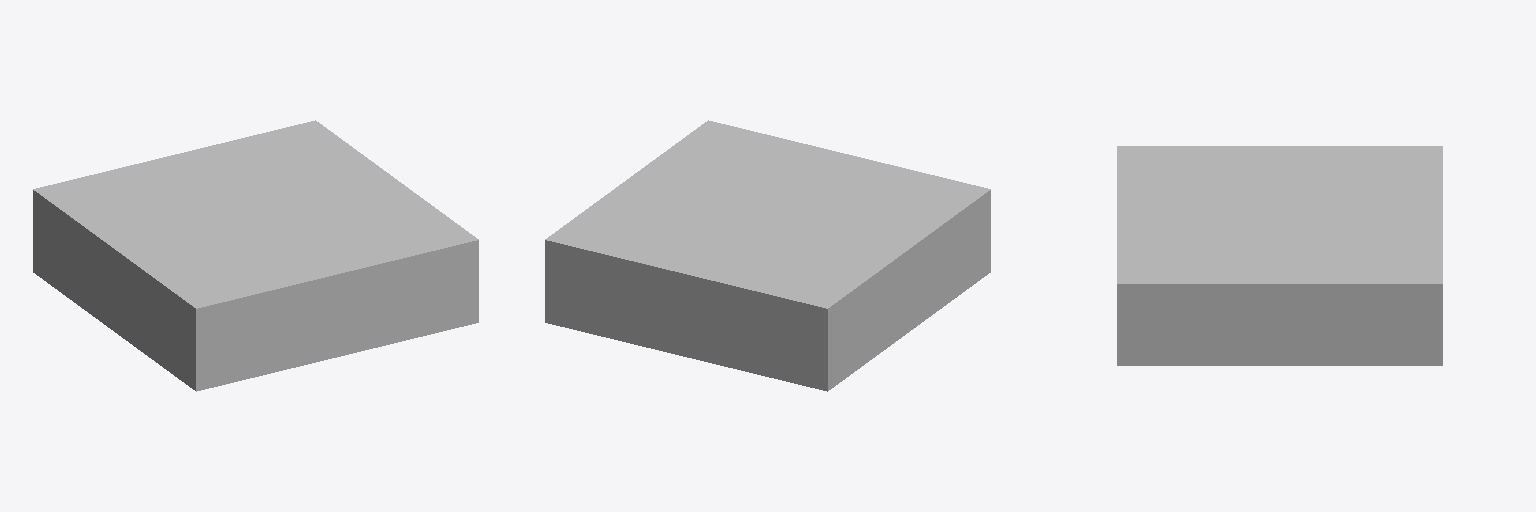
Rendered from lampu rk.obj.
The picture shows the model from 3 angles: view 1: azimuth 30°, elevation 25°; view 2: azimuth 150°, elevation 25°; view 3: azimuth 270°, elevation 25°; orthographic projection.
Visible parts, largest first — view 1: Cube.001_Cube.002; view 2: Cube.001_Cube.002; view 3: Cube.001_Cube.002.
Part boxes in pixels (left/top/right/bottom): Cube.001_Cube.002: left=33, top=120, right=478, bottom=391; Cube.001_Cube.002: left=545, top=120, right=990, bottom=391; Cube.001_Cube.002: left=1117, top=146, right=1442, bottom=365.
Bounding box in the file's own units: 0.654 × 0.183 × 0.654.